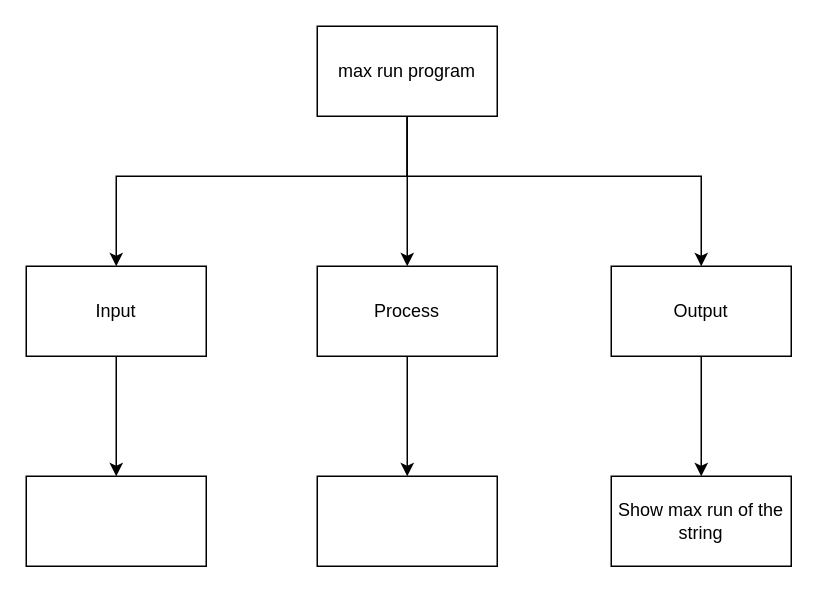
Some shapes in this 818 by 593 pixel diagram are drawn without their labels. The box of each missing label's shape, as (x1, y1, x2, y2) in pixels:
Enter string: (25, 475, 206, 566)
Find the Max run by checking how many characters repeat in a row: (316, 475, 497, 566)
